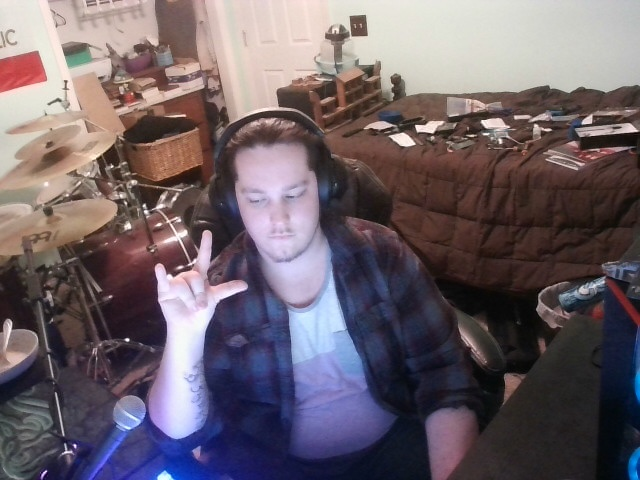i_love_you: (125, 219, 257, 341)
